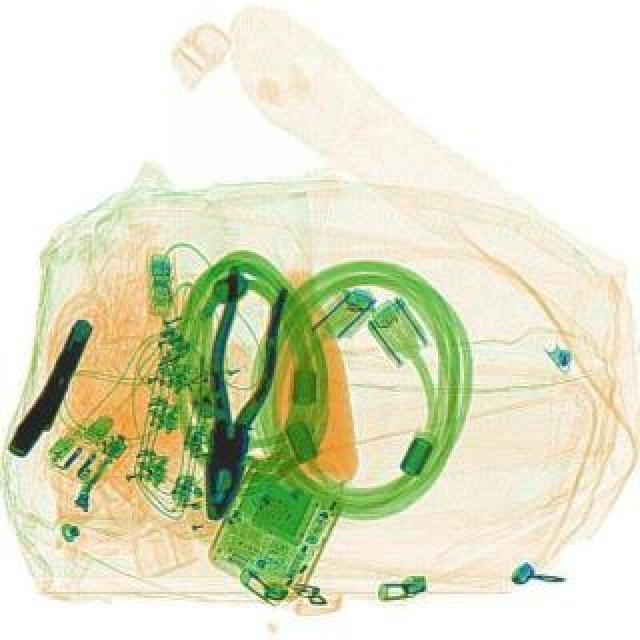gun: (6, 314, 102, 468)
wrench: (184, 264, 296, 524)
